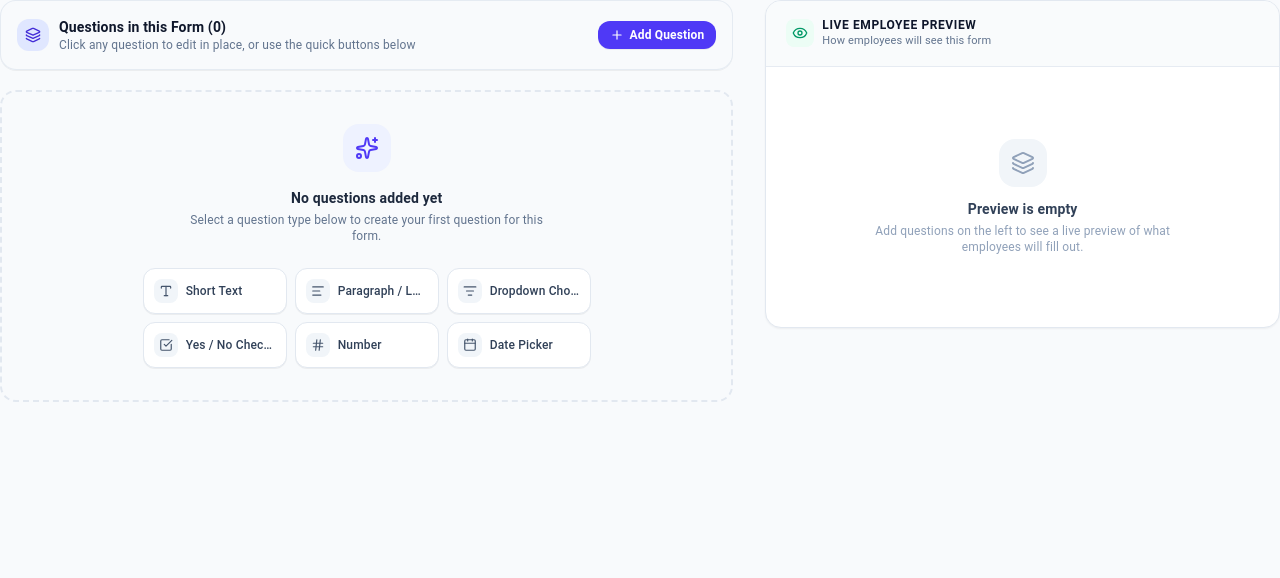
it: SchemaBuilder Component › adds a new question and selects it for editing
// Click quick add Short Text
Click the button "Short Text". click: (215, 291)
box: [143,268,287,314]
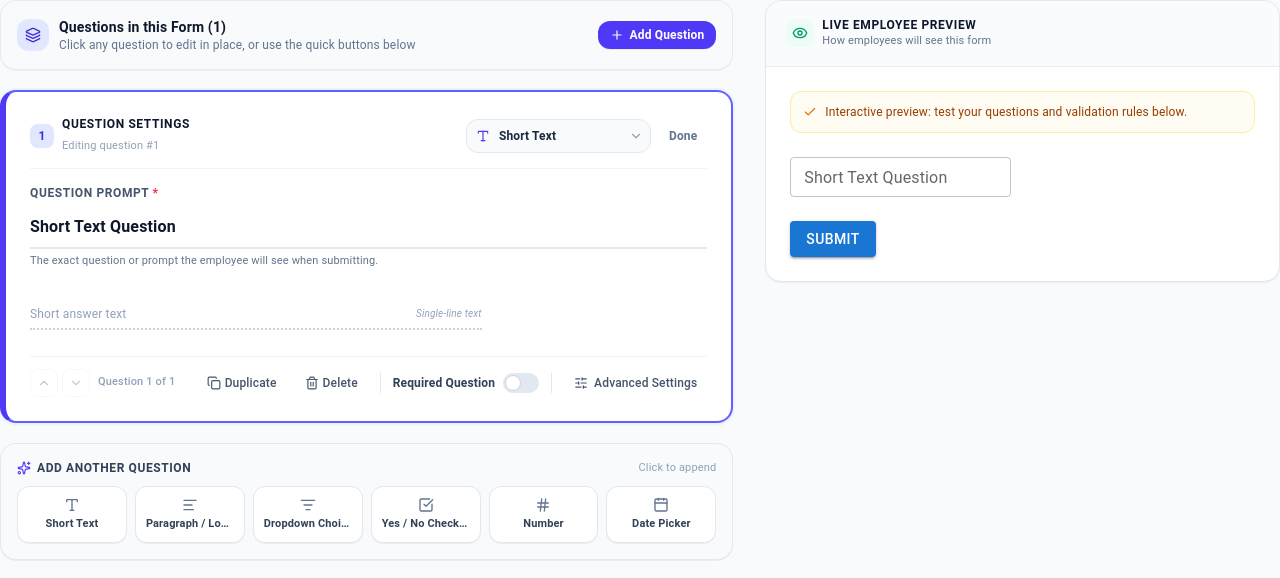
Now the heading "Question Settings" is shown, box [62,116,190,132]
